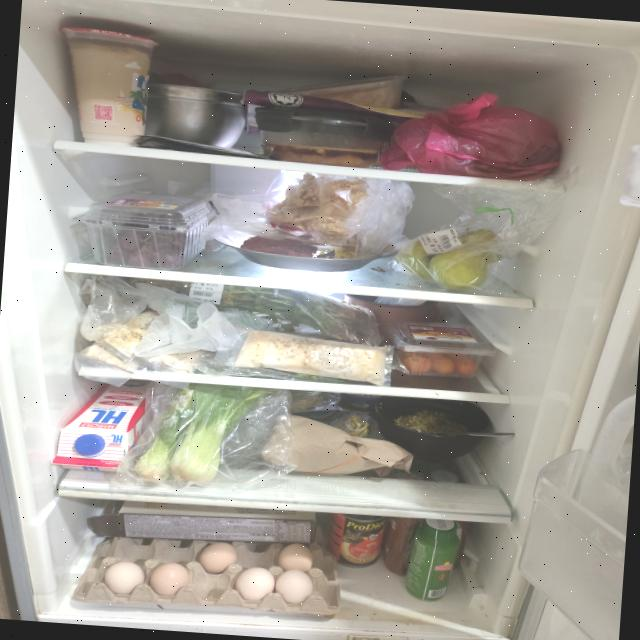apple: (393, 222, 502, 292)
egg: (74, 522, 344, 618)
grape: (106, 210, 186, 269)
leafy_greens: (150, 280, 383, 344)
pakchoy: (132, 380, 278, 490)
tempeh: (76, 304, 211, 379), (233, 328, 388, 386)
unknown_bag: (378, 85, 566, 183)
